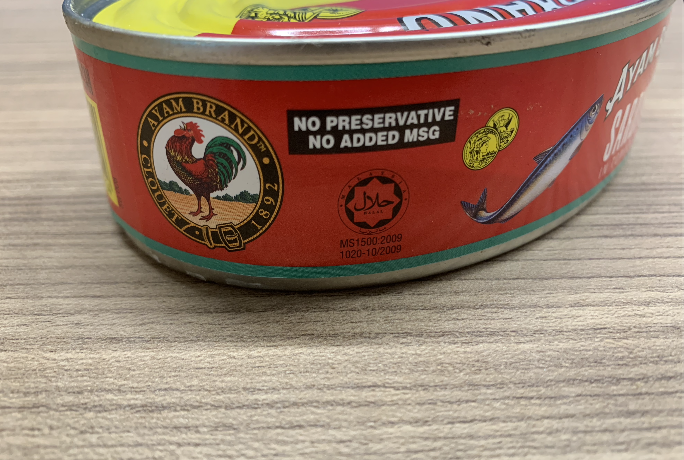halal: (348, 179, 401, 224)
